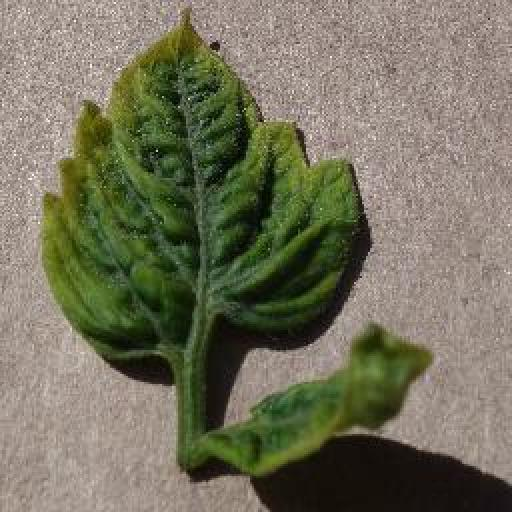disease_tomato: (44, 9, 361, 360)
